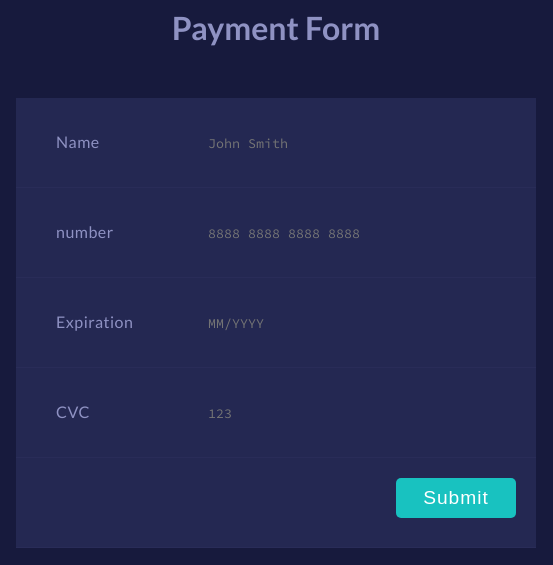
PaymentForm › shows error messages › when name is less than three characters
The image size is (553, 565).
Type "tg" into the field with placeholder "John Smith".
click(356, 143); type("tg")  # box [206,134,506,153]
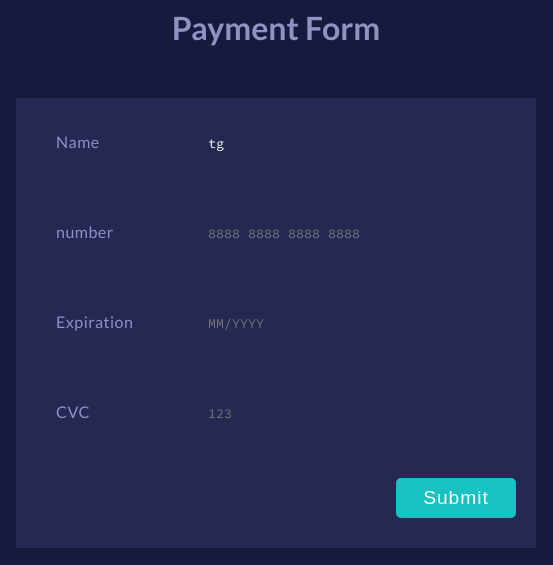
Expected: the field with placeholder "John Smith" has attribute value="tg", [206,134,506,153]
Click the button "Submit".
click(456, 498)  # box [396,478,516,518]
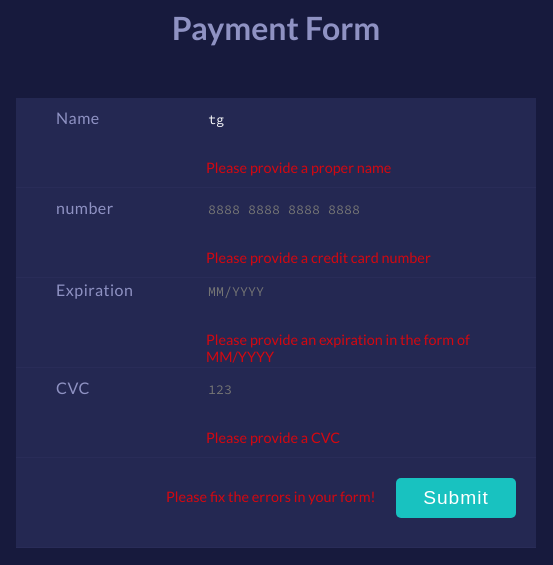
Expected: the text "Please provide a proper name" is shown, [206,159,391,176]
